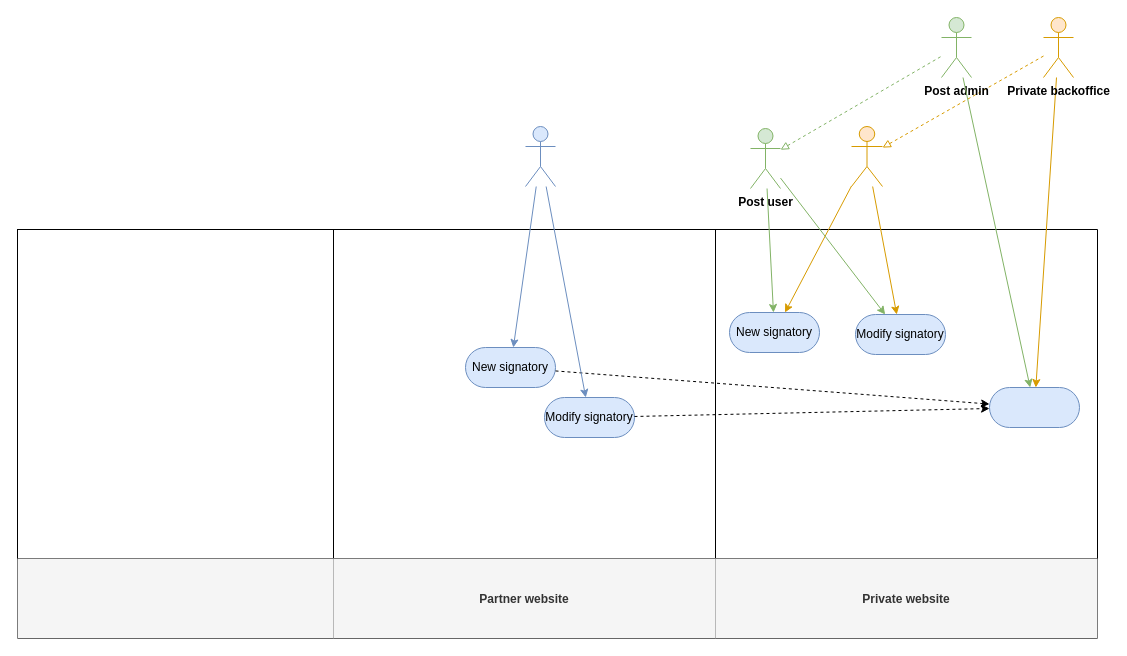
The diagram is 1127 pixels wide and 656 high, and some of its shapes have lost their labels. Here are the shapes that lost their labels. From the top down, the centre of each, then its label:
point 540,156: Partner user
point 866,156: Private frontoffice
point 1034,407: Approve signatory
